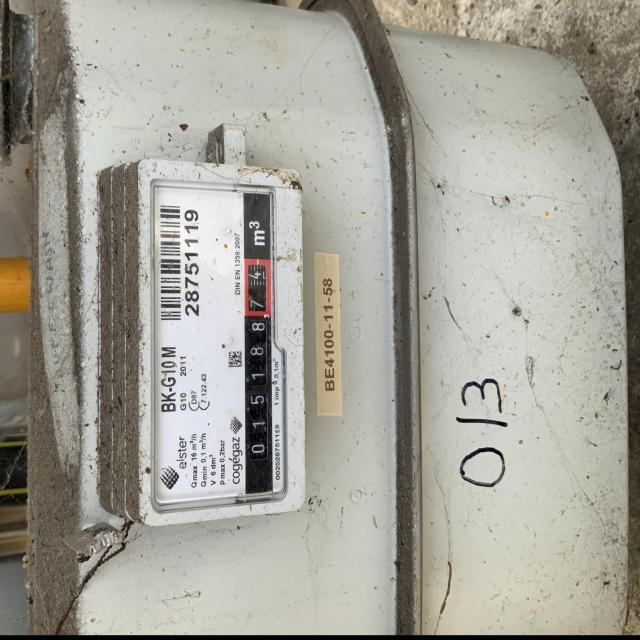gaz_meter: (150, 184, 288, 506)
indication: (243, 192, 273, 495)
